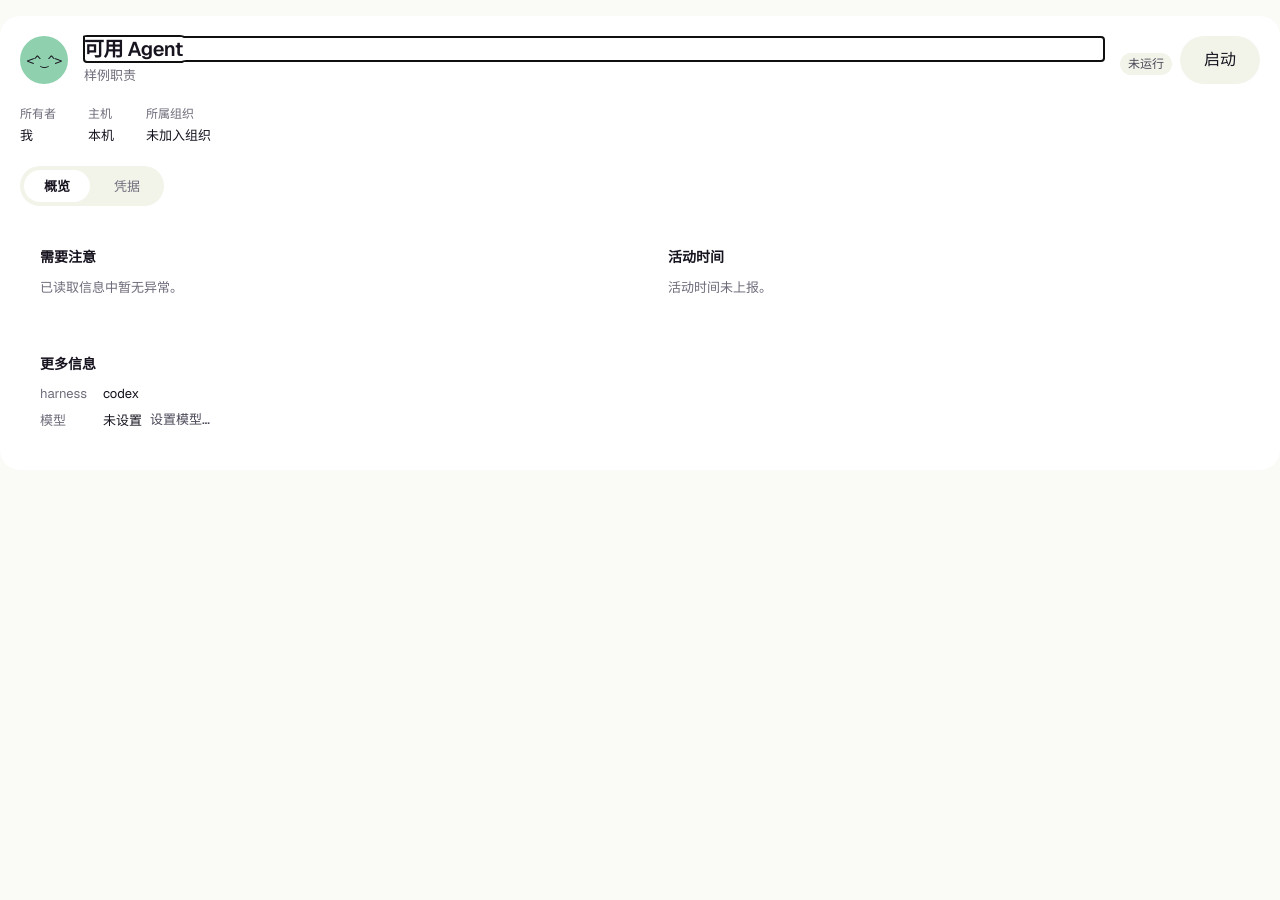
Scenario: agent detail four-tab shell (implG4) › keeps the creation harness fixed and does not offer an Auth vendor override
Click the button "设置模型…".
click(180, 420)  # box [150, 410, 210, 430]
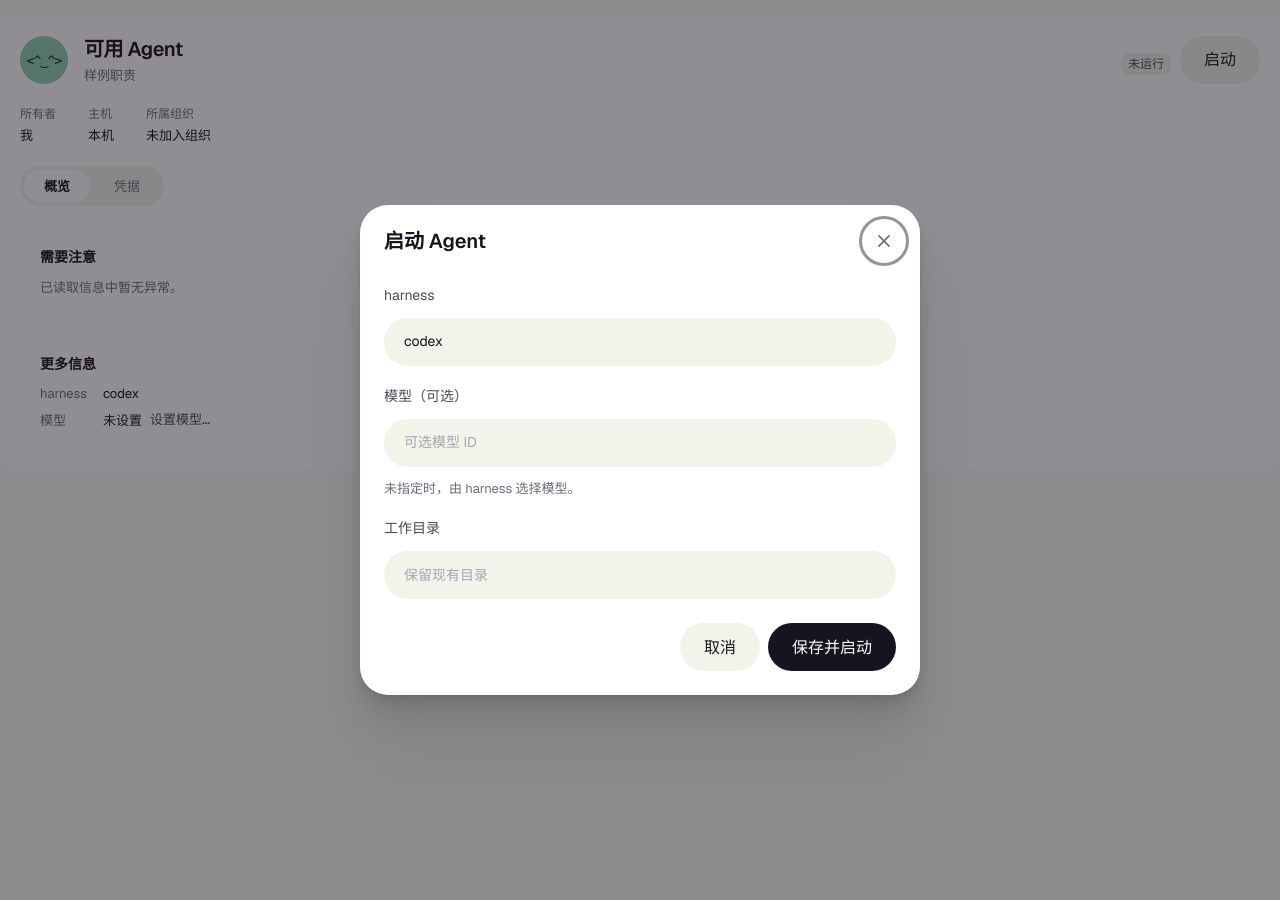
Now the field labelled "harness" holds "codex", box [384, 318, 896, 366]
